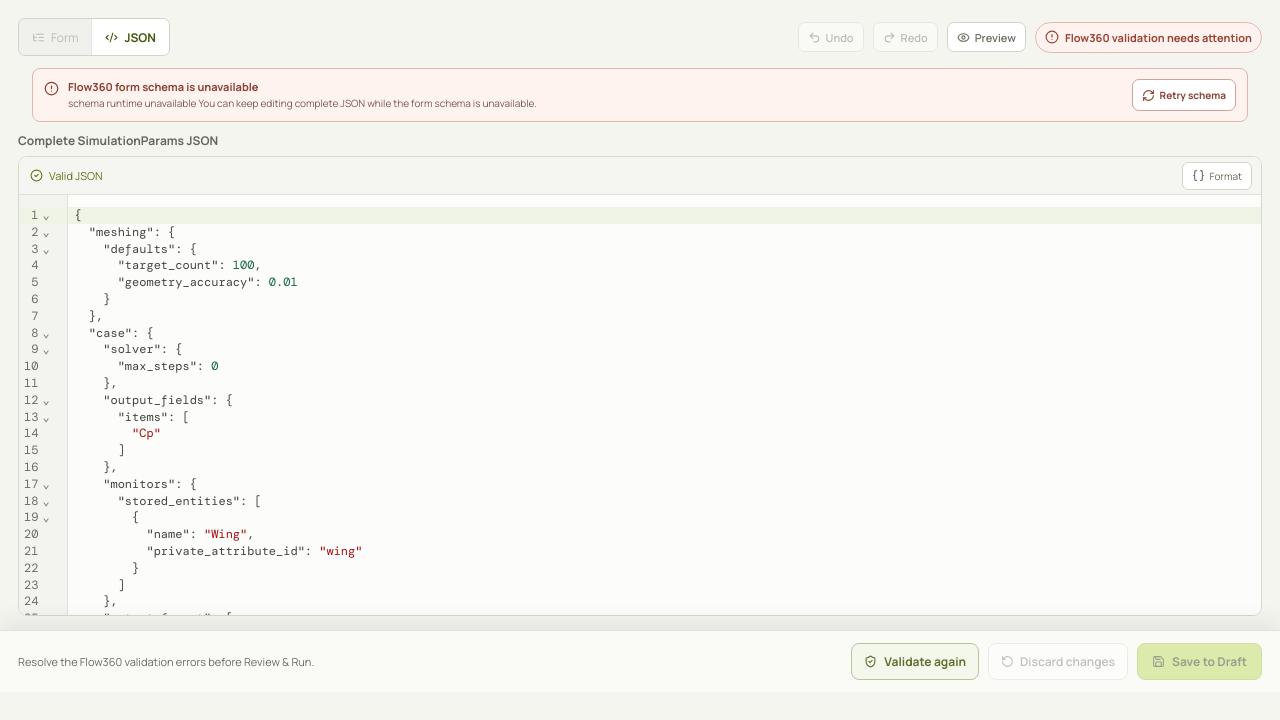
Draft parameter validation navigation › keeps the candidate recoverable when schema loading or validation transport fails
This screenshot has width=1280, height=720.
Click the button "Retry schema" at (1184, 95), box [1132,79,1236,111]
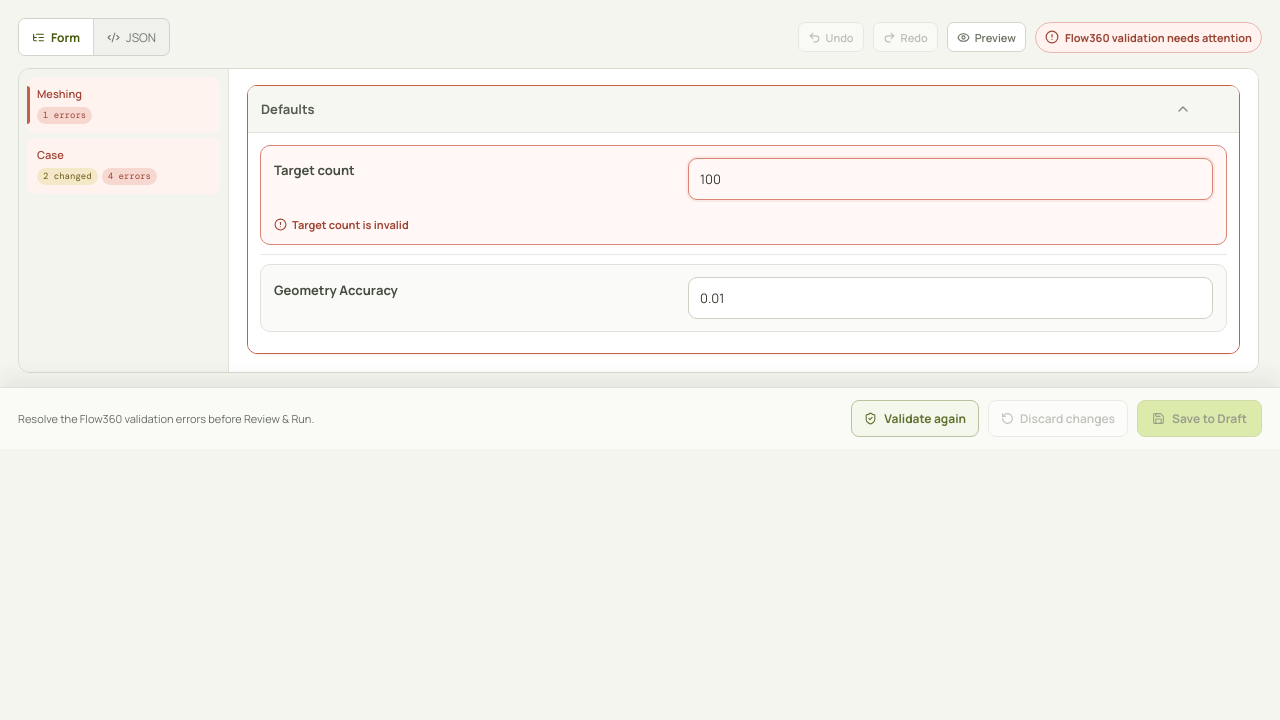
expect the tab "Form" is enabled: met, box [19,19,94,55]
Click the button "Validate again" at (915, 419), box [851,400,979,437]
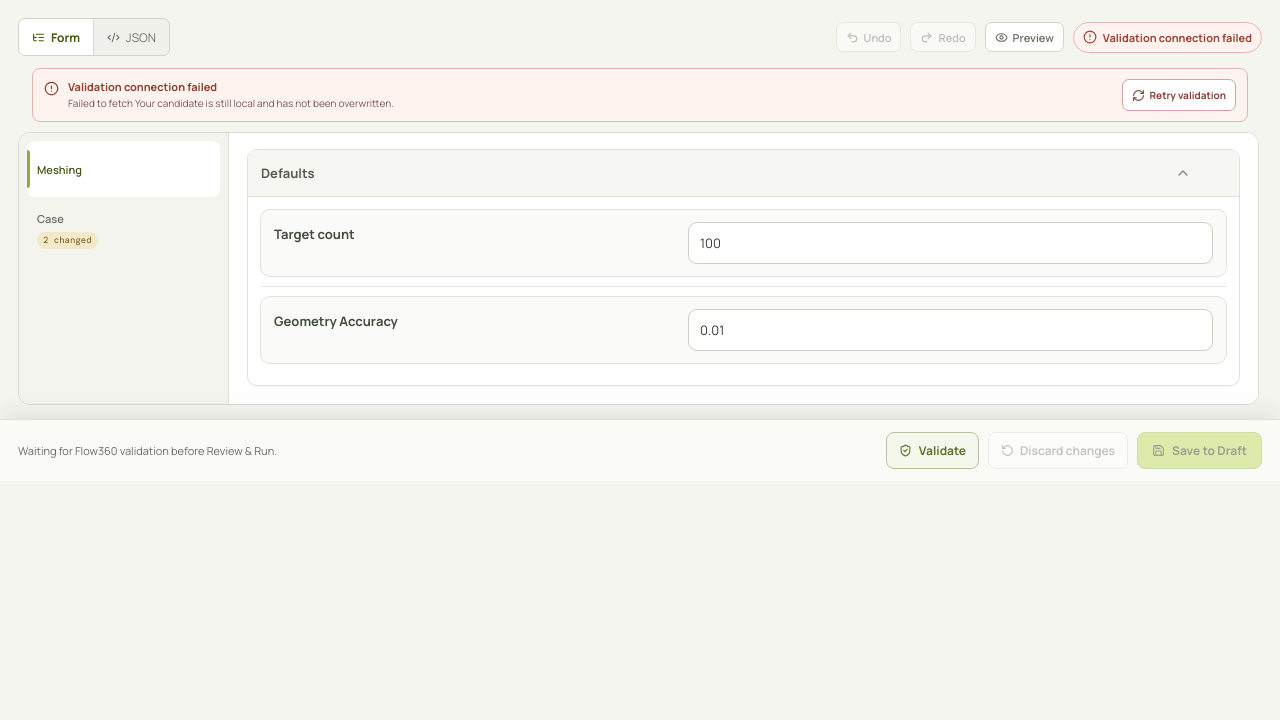
expect the text "Validation connection failed" is shown: met, box [1103,30,1252,44]
expect the text "candidate is still local" is shown: met, box [135,96,394,110]
expect the button "Retry validation" is shown: met, box [1122,79,1236,111]
